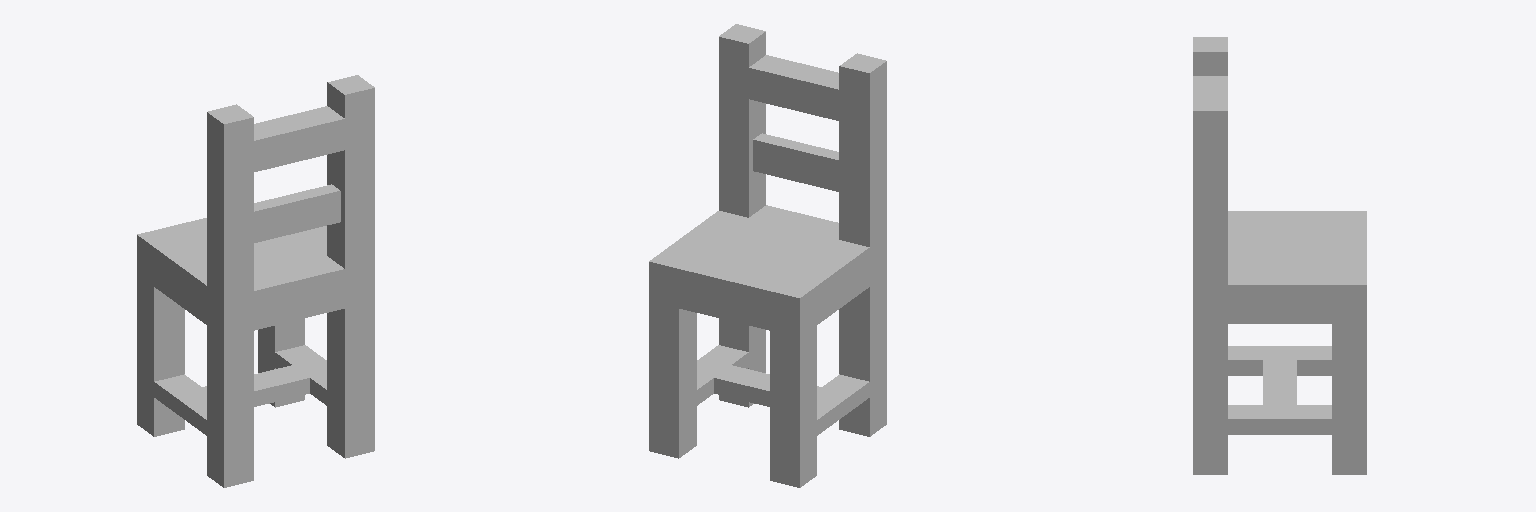
The model's file is chairCushion.obj.
3 views of the same model, side by side, from view 1: azimuth 30°, elevation 25°; view 2: azimuth 150°, elevation 25°; view 3: azimuth 270°, elevation 25° (orthographic).
Parts seen in each view (by area): view 1: chairCushion; view 2: chairCushion; view 3: chairCushion.
Part boxes in pixels (x1,y1,x2,y2): chairCushion: (137, 75, 374, 487); chairCushion: (649, 24, 886, 487); chairCushion: (1193, 37, 1366, 474).
Bounding box in the file's own units: 2 × 4.6 × 2.